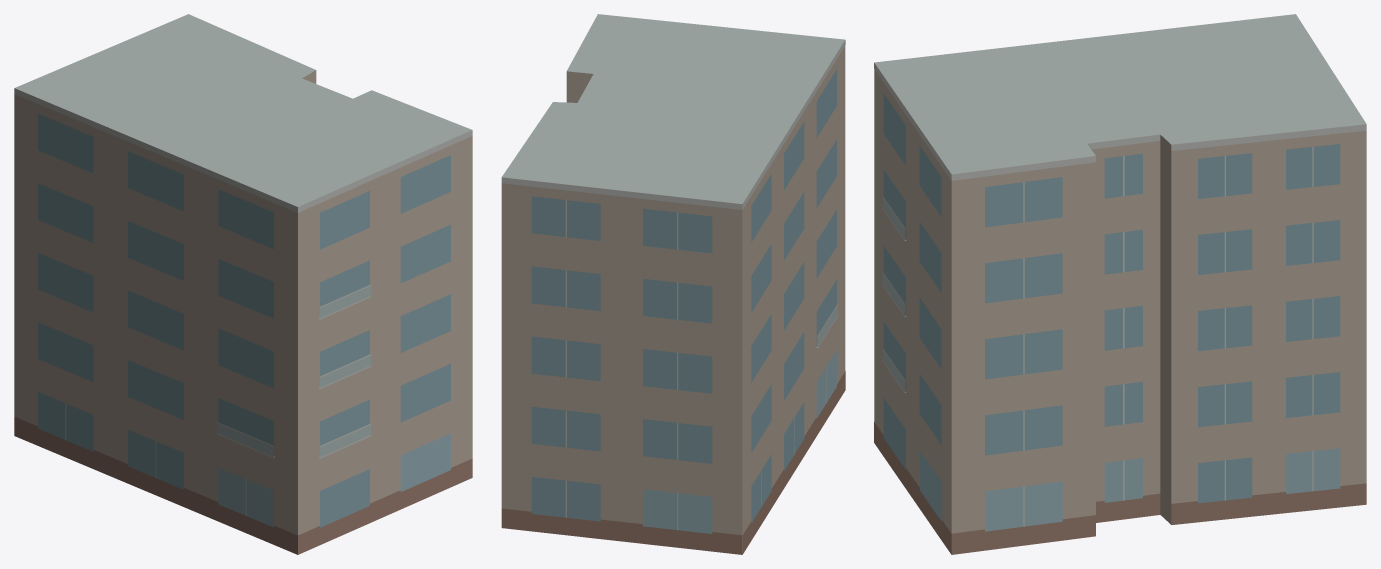
The model's file is survey-upis-32578195.glb.
3 views of the same model, side by side, from view 1: azimuth 30°, elevation 25°; view 2: azimuth 150°, elevation 25°; view 3: azimuth 270°, elevation 25° (orthographic). The views are drawn at different scales.
Parts seen in each view (by area): view 1: survey-upis-32578195.tmp; view 2: survey-upis-32578195.tmp; view 3: survey-upis-32578195.tmp.
Part boxes in pixels (x1,y1,x2,y2): survey-upis-32578195.tmp: (14,14,472,554); survey-upis-32578195.tmp: (501,14,845,554); survey-upis-32578195.tmp: (874,14,1366,554).
Bounding box in the file's own units: 13.23 × 14.6 × 17.15.
